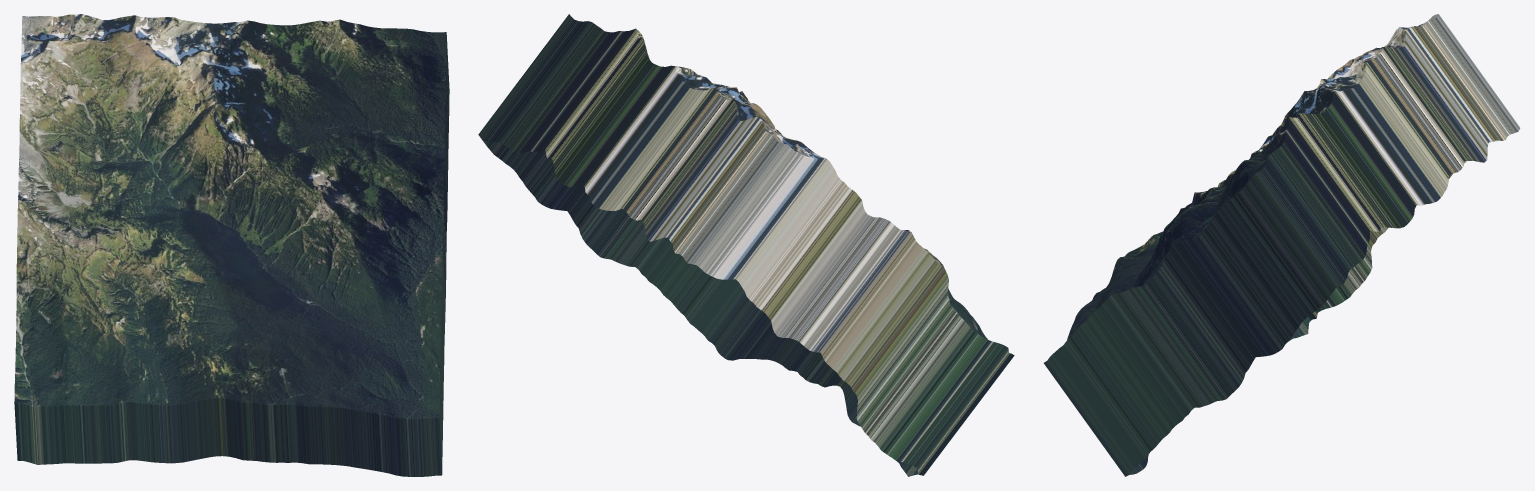
3 views of the same model, side by side, from view 1: azimuth 30°, elevation 25°; view 2: azimuth 150°, elevation 25°; view 3: azimuth 270°, elevation 25° (orthographic). The views are drawn at different scales.
Size of the model in its own units: 10994 by 8515 by 10193.
1 material, 1 textured.
